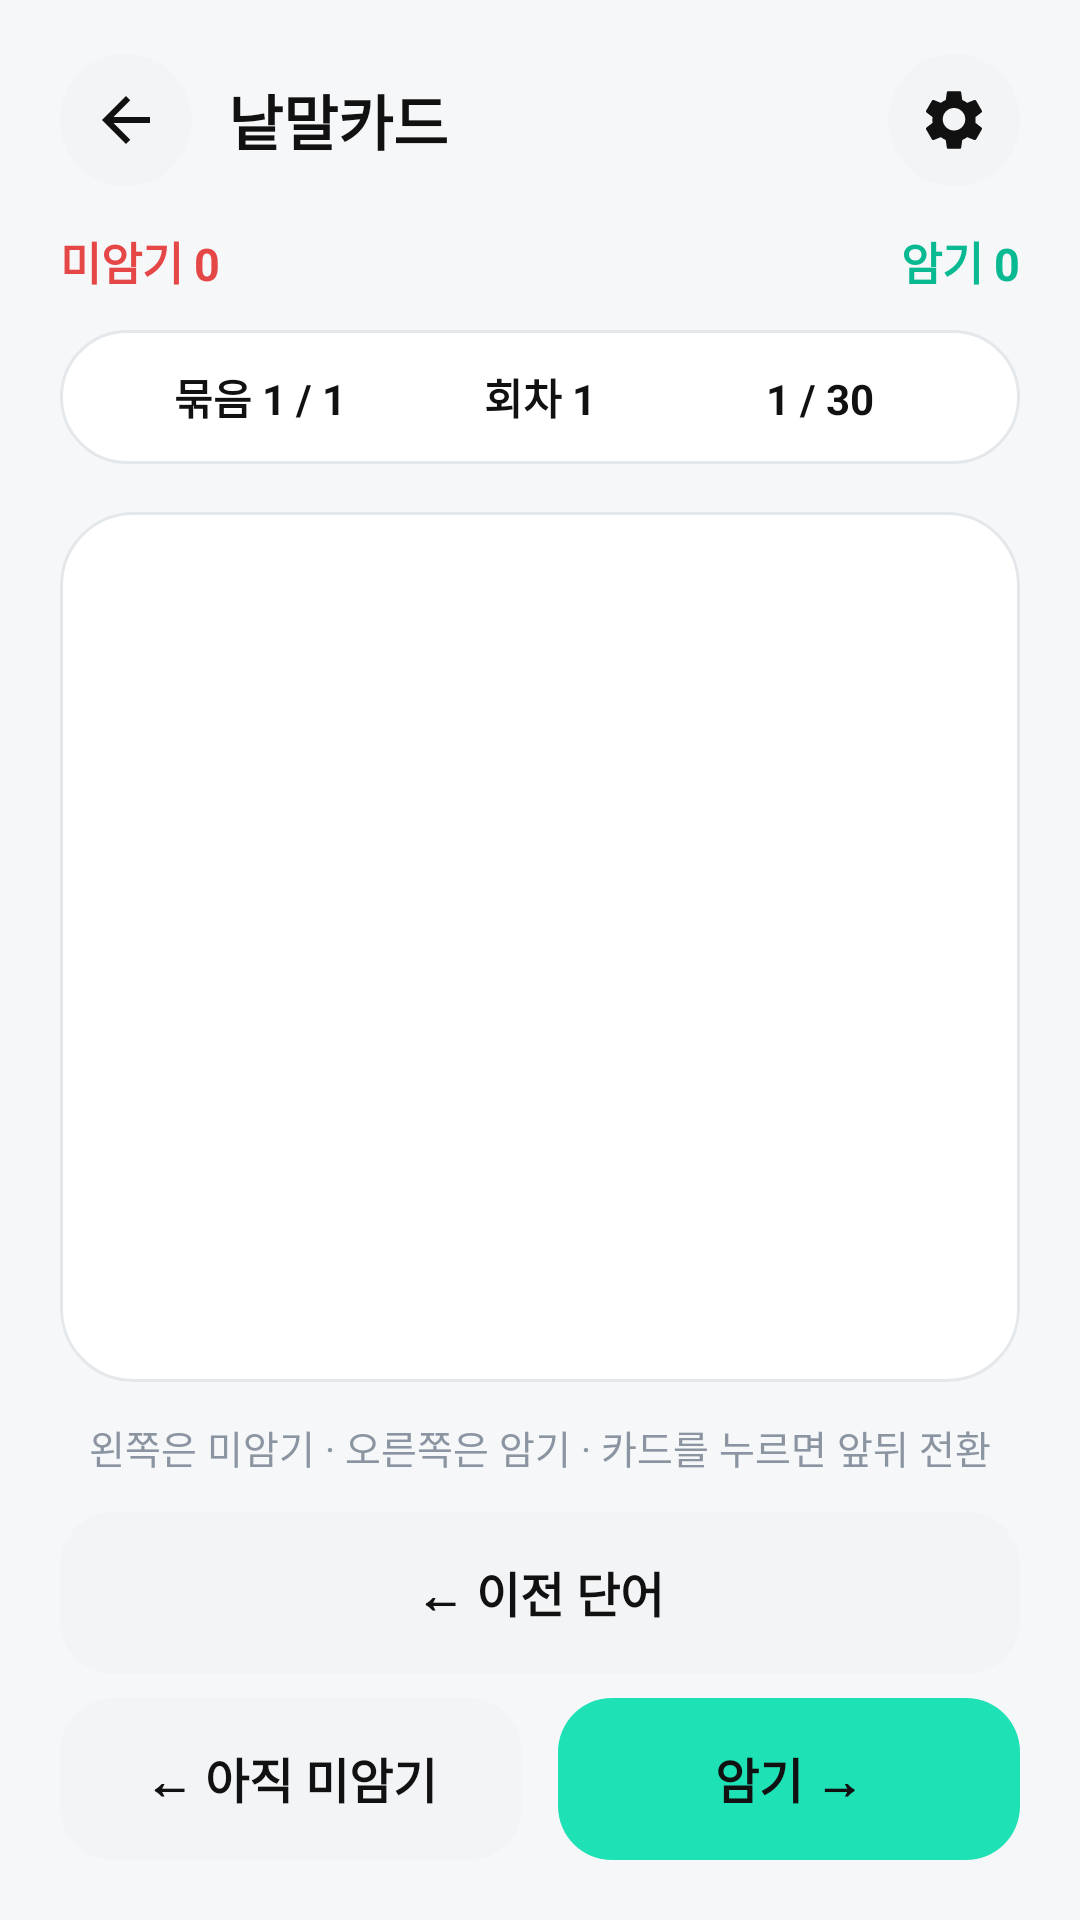

Icon click points for this 1080 × 1920 phone screenshot, format (x,y):
단어장으로 돌아가기: (126,120)
